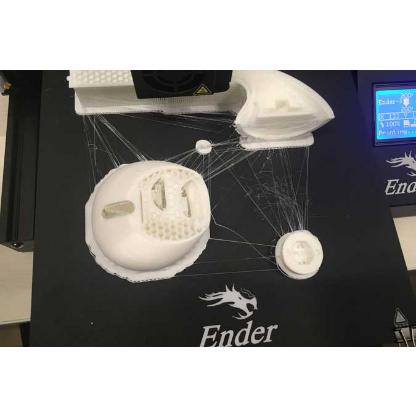fail: (211, 150, 305, 228), (84, 116, 148, 158)
